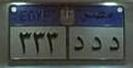3: (18, 30, 32, 55), (46, 30, 59, 54), (33, 29, 45, 55)
daal: (107, 34, 122, 54), (89, 34, 103, 54), (72, 35, 86, 54)
